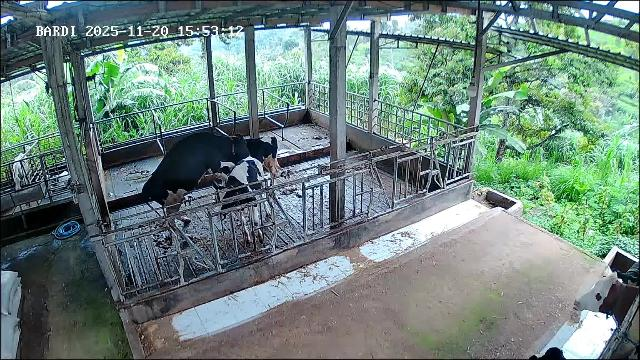mounting: (140, 131, 252, 242)
